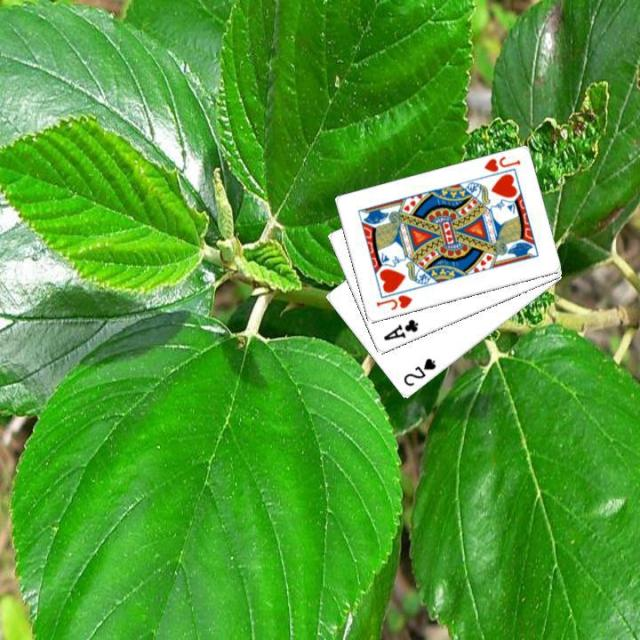2S: (399, 354, 437, 388)
AC: (380, 316, 420, 342)
JH: (480, 153, 522, 174), (372, 292, 414, 312)
